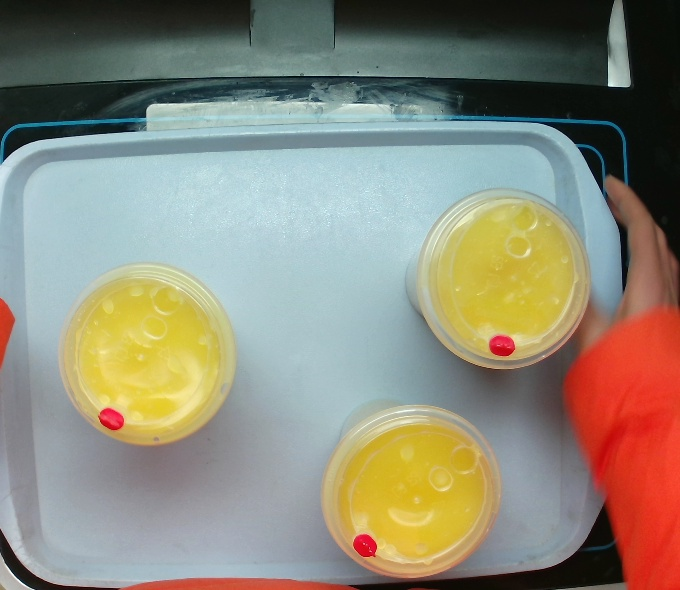wcq-ChengZhi: (315, 392, 504, 581), (403, 186, 593, 373), (55, 261, 239, 449)
